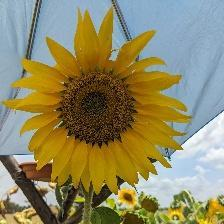sunflower: (33, 43, 180, 184)
